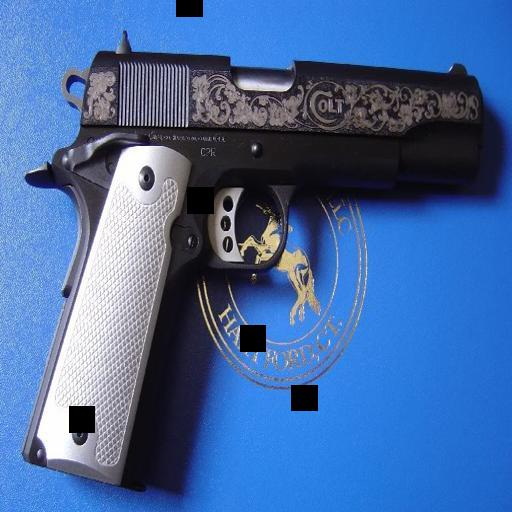Handgun: (15, 23, 486, 482)
